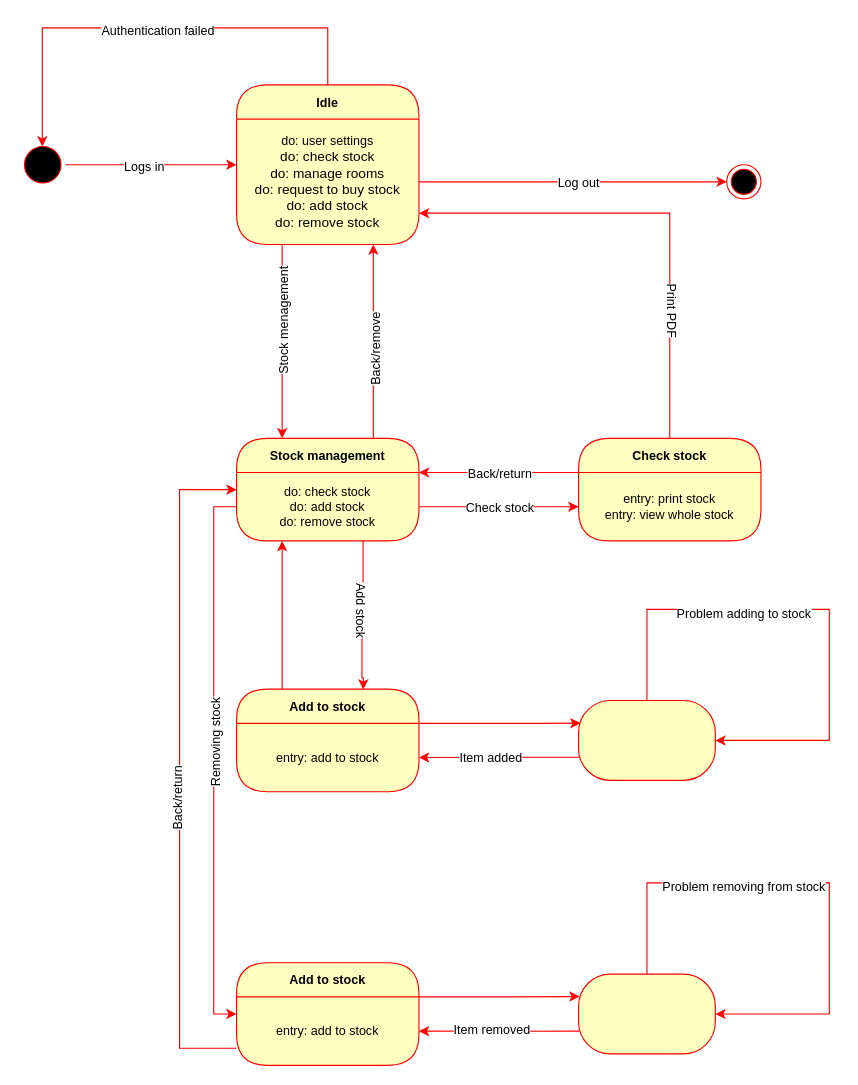
Image size: 858x1085. Some labels were removed from this diagram. Here are the shapes that lost their labels. From the top down, the centre of each, then its label:
At point 646,739: "Adds items to stock".
At point 646,1013: "Removes items from stock".
